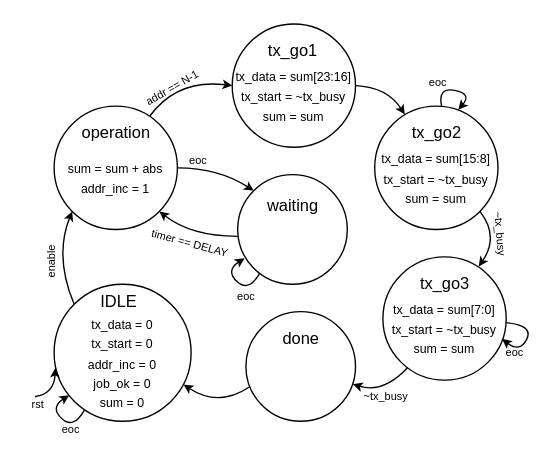
Image size: 558x467. Some labels were removed from this diagram. Here are the shapes that lost their labels. From the top down, the box of each, then its label:
(236, 173, 347, 284): sum = sum
(245, 310, 356, 421): job_ok = 1 sum = sum
